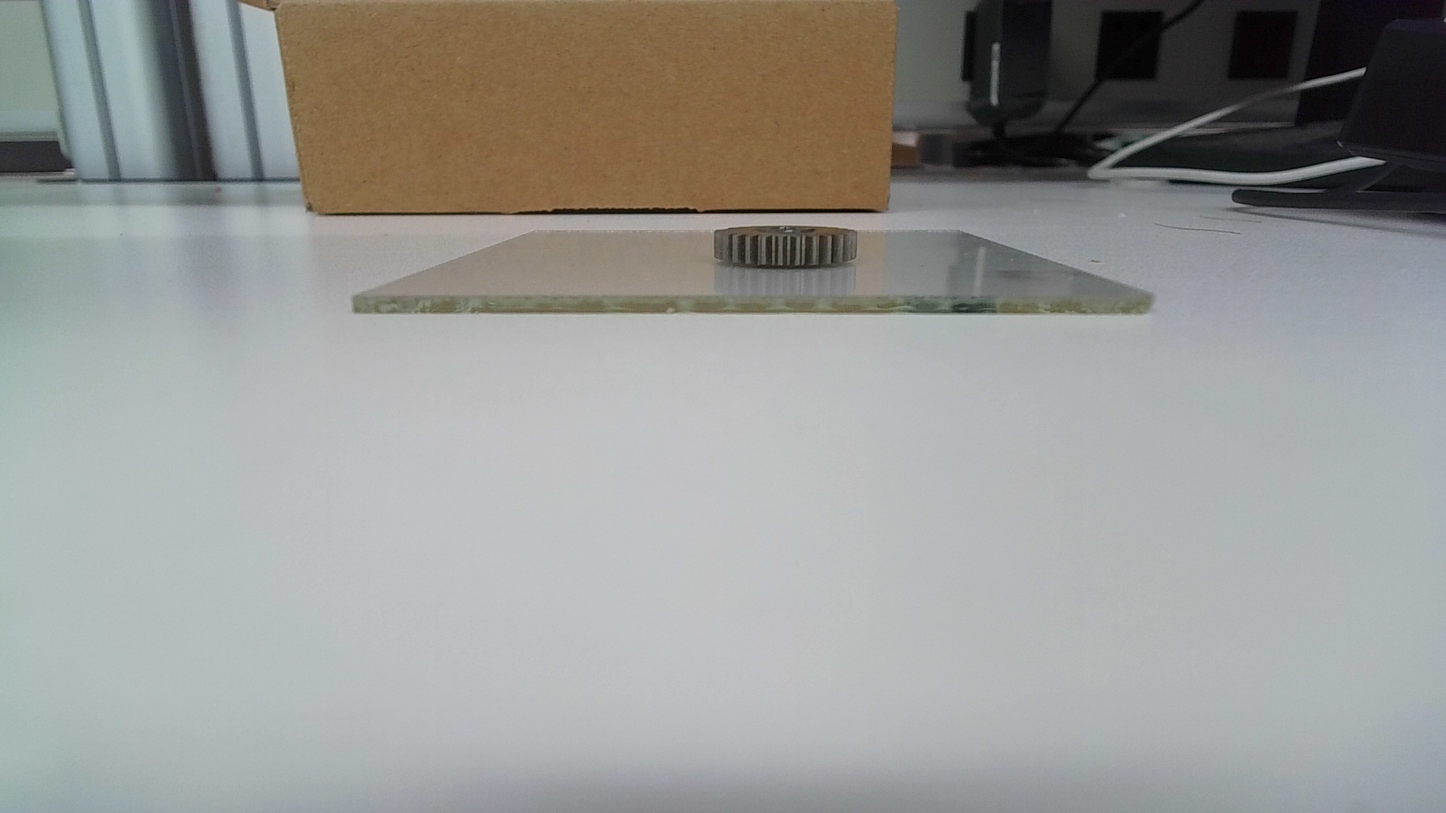gear: (711, 222, 862, 273)
